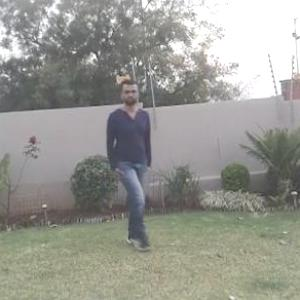follow: (99, 80, 155, 244)
